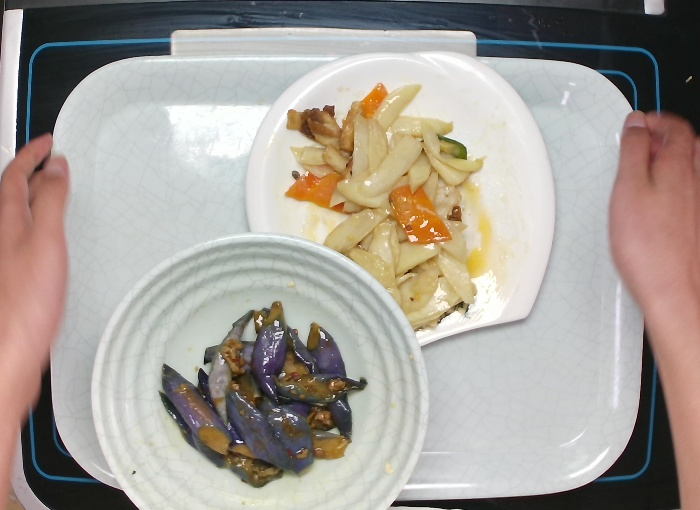JYsf-Da_Tang_Wan: (85, 228, 429, 510)
JYsf-Mian_Pan: (235, 48, 561, 353)
